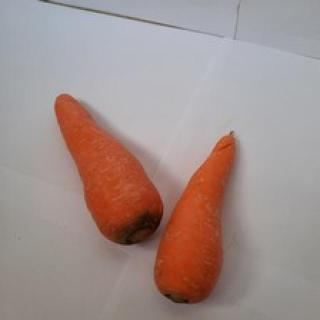carrot: (47, 89, 165, 245), (154, 127, 240, 307)
